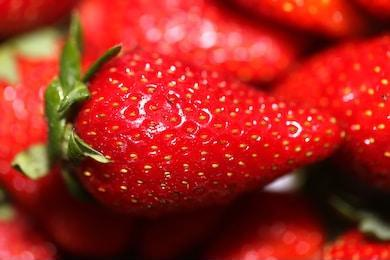Fresa: (55, 42, 347, 228)
